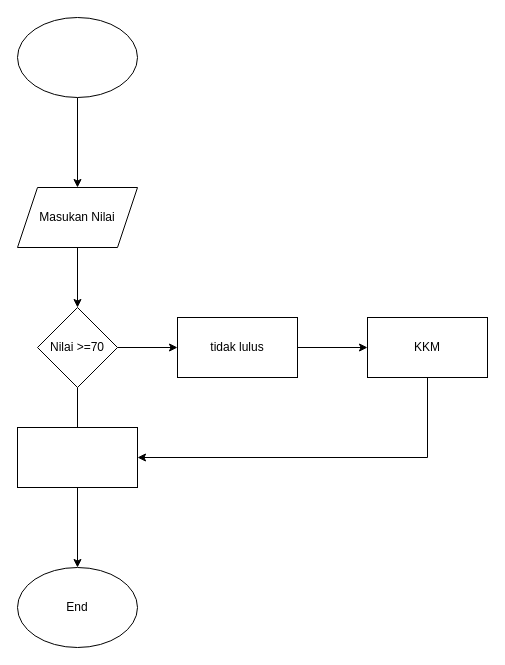
Image size: 505x665. Some labels were removed from this diagram. The centre of each missing label's shape, as x and y in pixels:
"lulus" goes at (77,457).
"Start" goes at (77,57).
